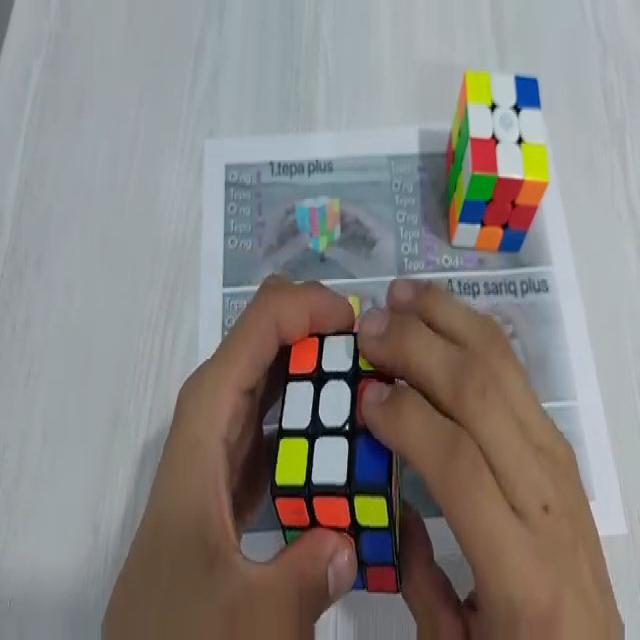Rub: (272, 330, 402, 588), (444, 67, 551, 256)
